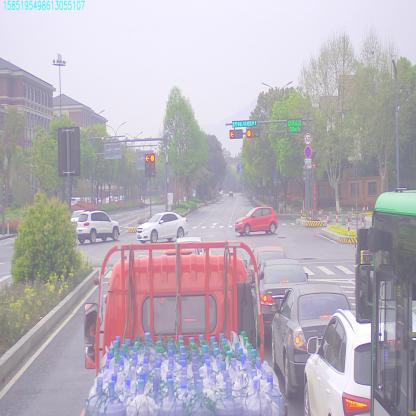traffic-light: (226, 130, 242, 138), (231, 121, 256, 126), (246, 128, 259, 137)
